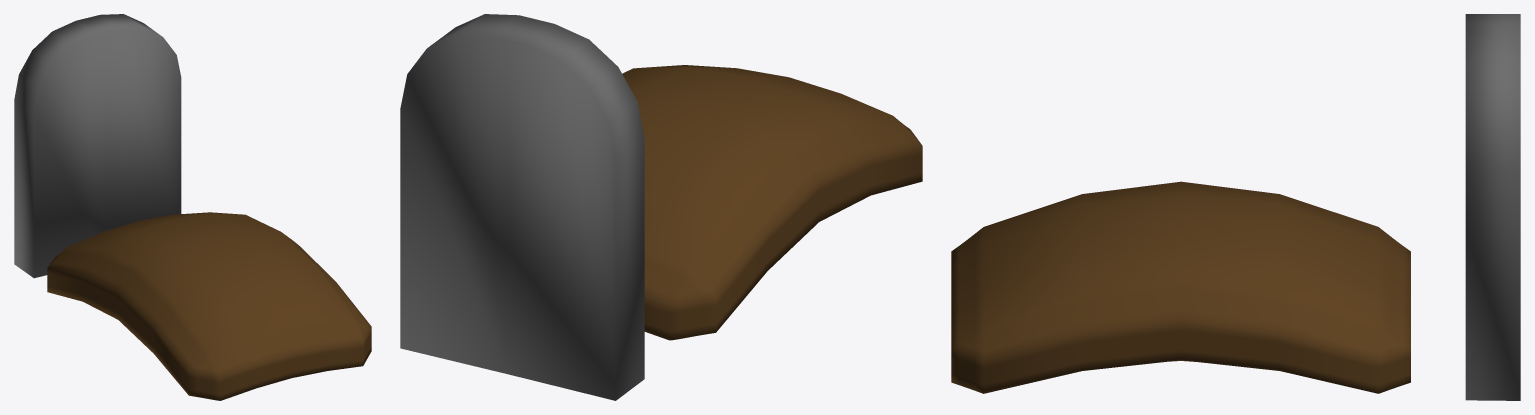
File: grave.fbx
The picture shows the model from 3 angles, left to right: view 1: azimuth 30°, elevation 25°; view 2: azimuth 150°, elevation 25°; view 3: azimuth 270°, elevation 25°; orthographic projection. The views are drawn at different scales.
Visible parts, largest first — view 1: grave; view 2: grave; view 3: grave.
Boxes of the visible parts, box(x1,y1,x2,y2) form: grave: box(14, 14, 371, 400); grave: box(400, 14, 922, 400); grave: box(951, 14, 1520, 400).
Bounding box in the file's own units: 1765 × 2109 × 3410.
